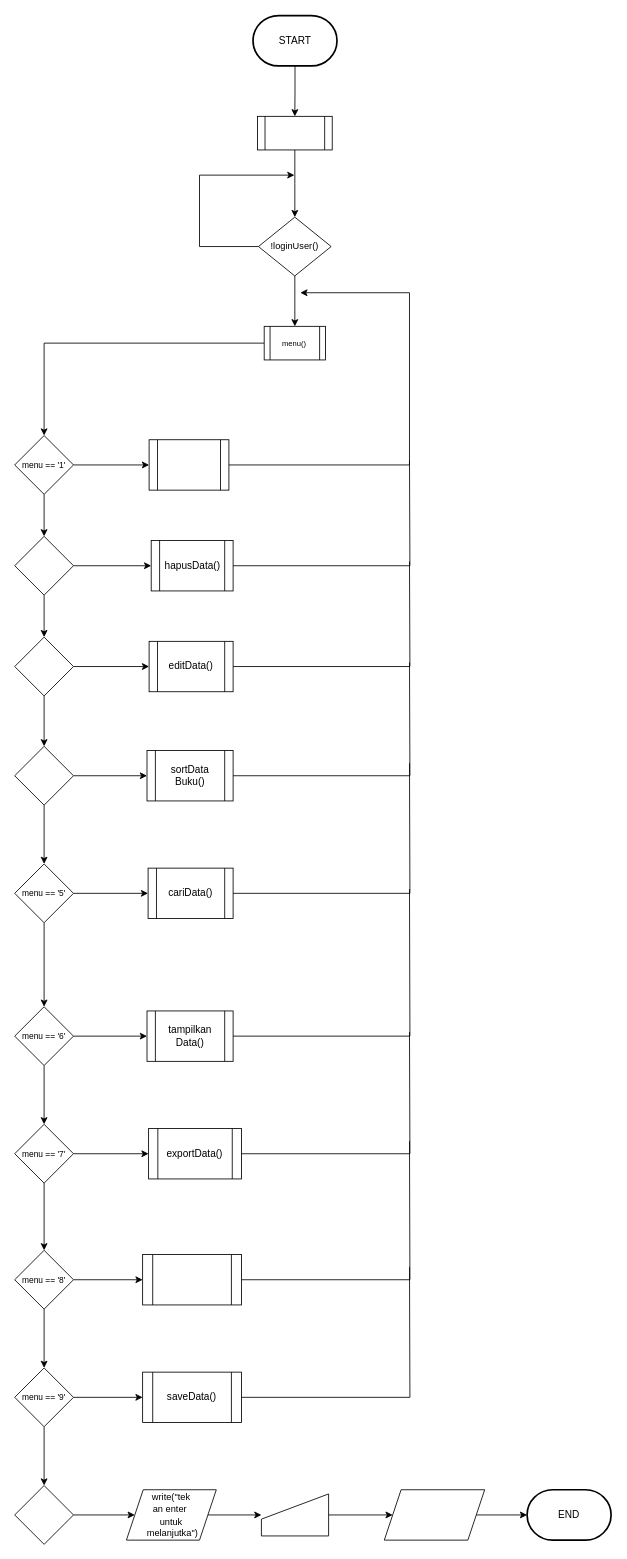
The diagram is 627 pixels wide and 1559 high, and some of its shapes have lost their labels. The centre of each missing label's shape, as x and y in pixels:
buatDatabase Sql(): point 192,1279
initUser(): point 294,133
menu == '2': point 44,565
menu == '3': point 44,666
menu == '4'': point 44,775
menu == false: point 44,1514
PRESS ENTER: point 295,1514
tambah Data(): point 188,464
write("terima kasih sudah menggunakan program kami"): point 434,1514
